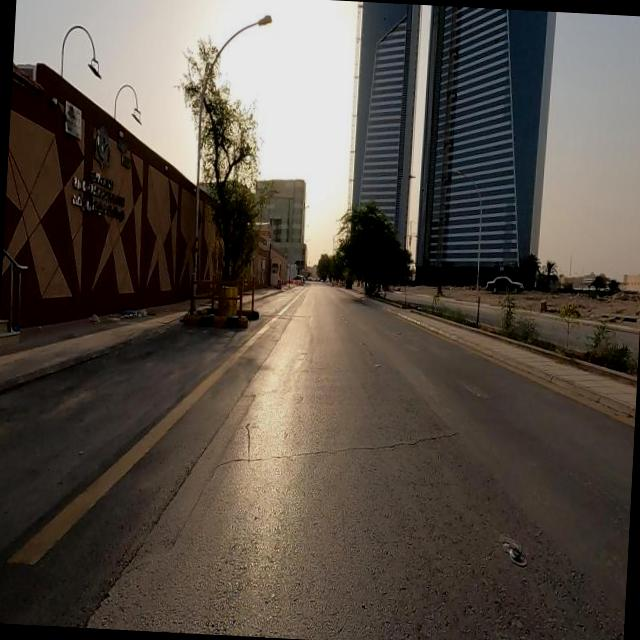debris: (510, 256, 596, 348), (23, 284, 140, 351), (97, 264, 179, 348), (565, 266, 640, 348), (204, 255, 256, 344)
